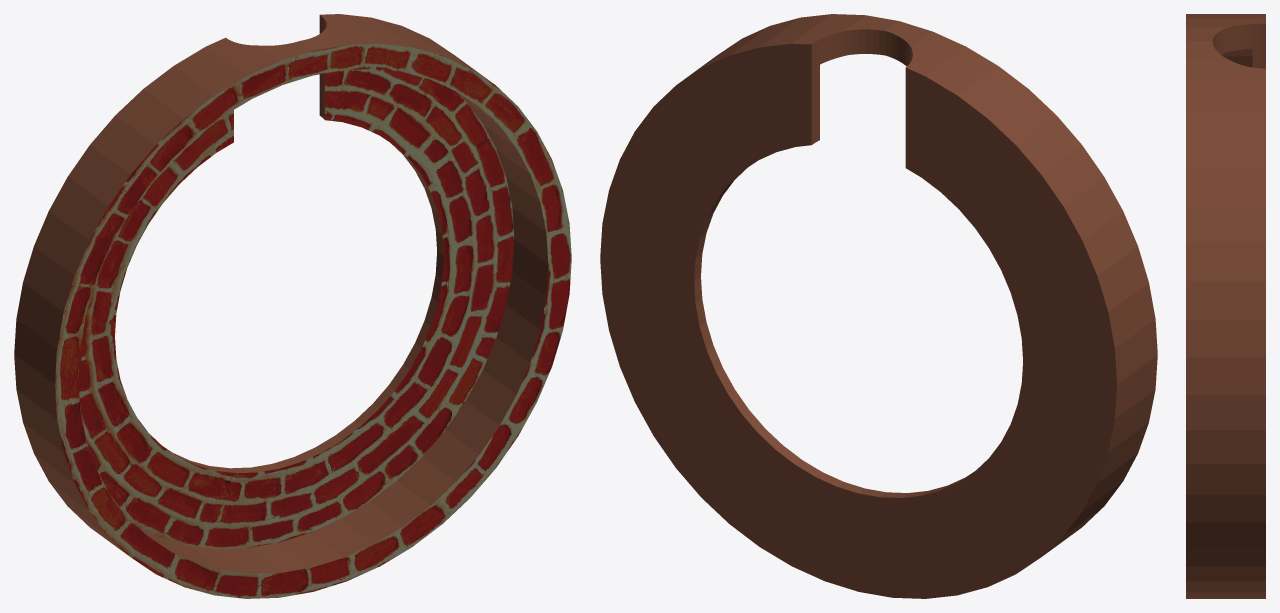
File: pool_004.obj
3 renders of one model, left to right at view 1: azimuth 30°, elevation 25°; view 2: azimuth 150°, elevation 25°; view 3: azimuth 270°, elevation 25°, orthographic.
Size of the model in its own units: 22 by 22 by 3.
Materials: 1 (1 with a texture image).
